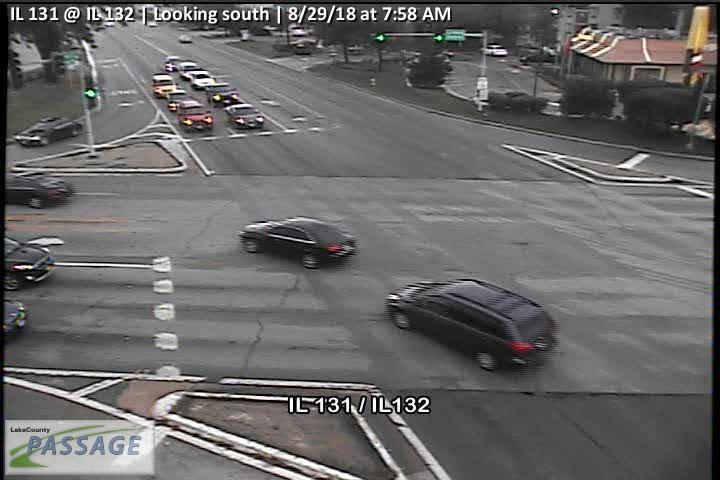SUV: (384, 276, 558, 371)
Sedan: (238, 214, 359, 268), (5, 169, 74, 210), (14, 116, 81, 145), (177, 99, 214, 133), (224, 103, 265, 130), (205, 82, 240, 108), (163, 89, 190, 111), (189, 69, 216, 88), (179, 60, 201, 80), (480, 42, 507, 55)
Truck: (152, 72, 176, 98)
